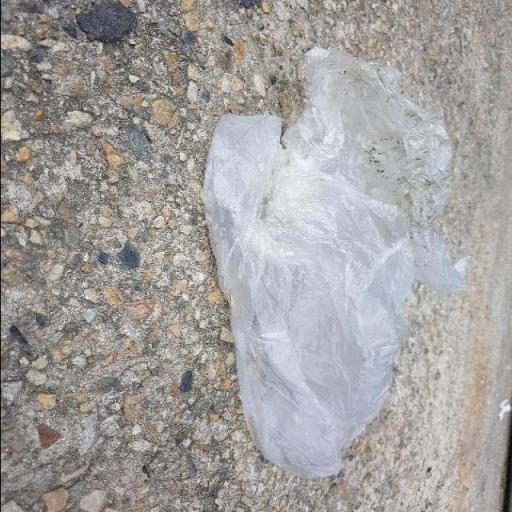plastic-bag: (196, 47, 470, 482)
